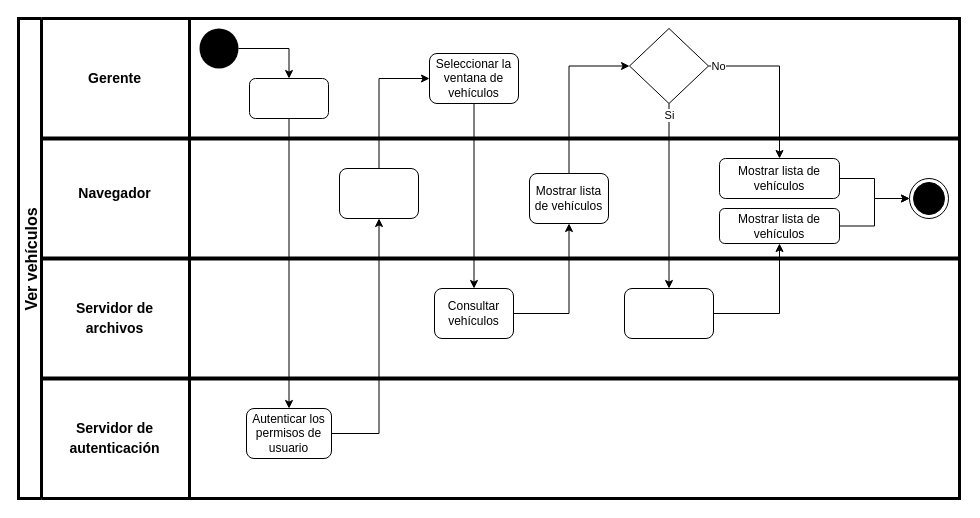
This 980x518 diagram has some shape labels left out. The box of each missing label's shape, as (x1, y1, x2, y2) in pixels:
Aplicar filtro: (628, 28, 708, 104)
Consultar vehículos con filtro: (624, 288, 714, 338)
Ingresar su usuario: (248, 78, 328, 118)
Mostrar la ventana del gerente: (338, 168, 418, 218)
